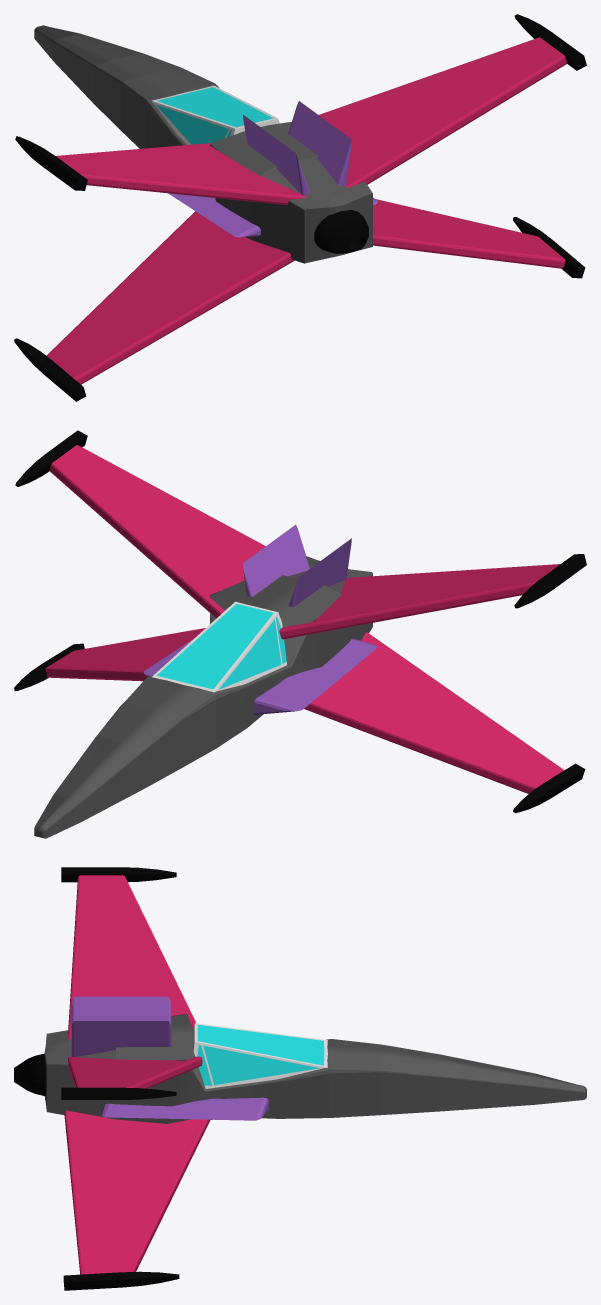
Rendered from xwing.fbx.
3 renders of one model, top to bottom at view 1: azimuth 30°, elevation 25°; view 2: azimuth 150°, elevation 25°; view 3: azimuth 270°, elevation 25°, orthographic. The views are drawn at different scales.
Visible parts, largest first — view 1: Xwing; view 2: Xwing; view 3: Xwing.
Boxes of the visible parts, bbox=[...] form: Xwing: bbox=[14, 14, 586, 401]; Xwing: bbox=[14, 430, 586, 838]; Xwing: bbox=[14, 867, 586, 1290].
Bounding box in the file's own units: 738 × 309 × 795.
